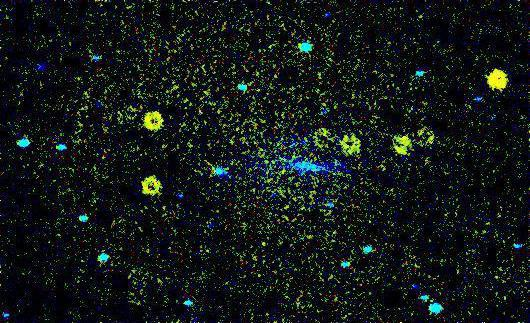star: (284, 129, 314, 159)
